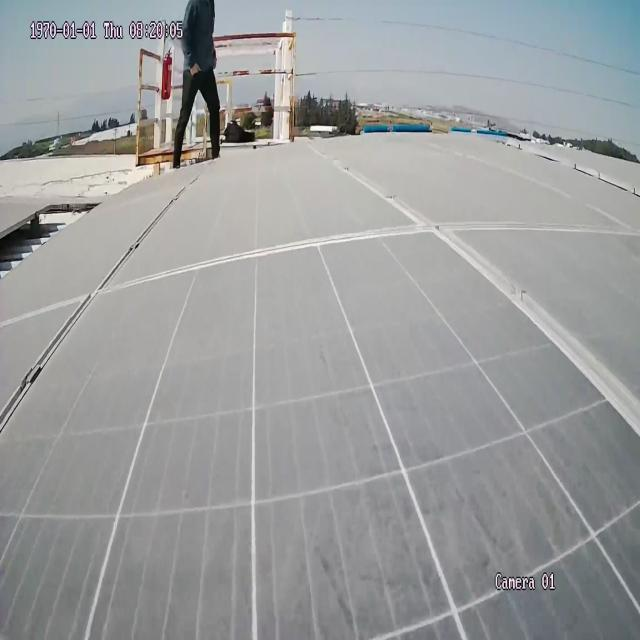interior panel: (0, 137, 640, 468)
